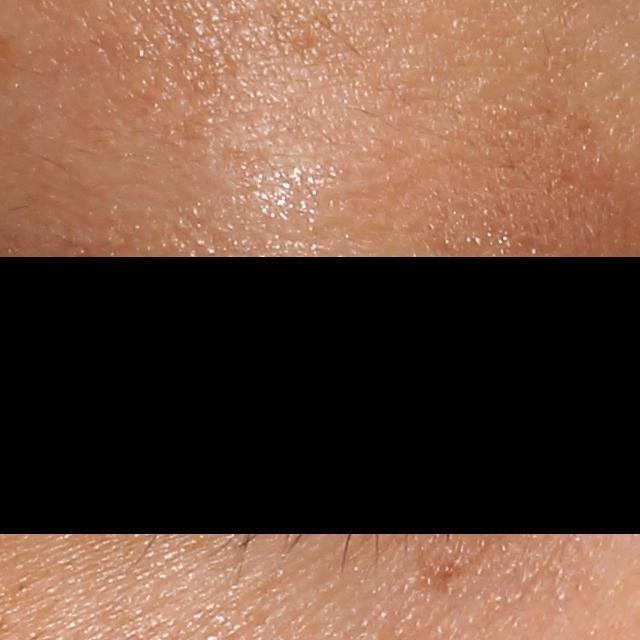melasma: (412, 549, 490, 601)
